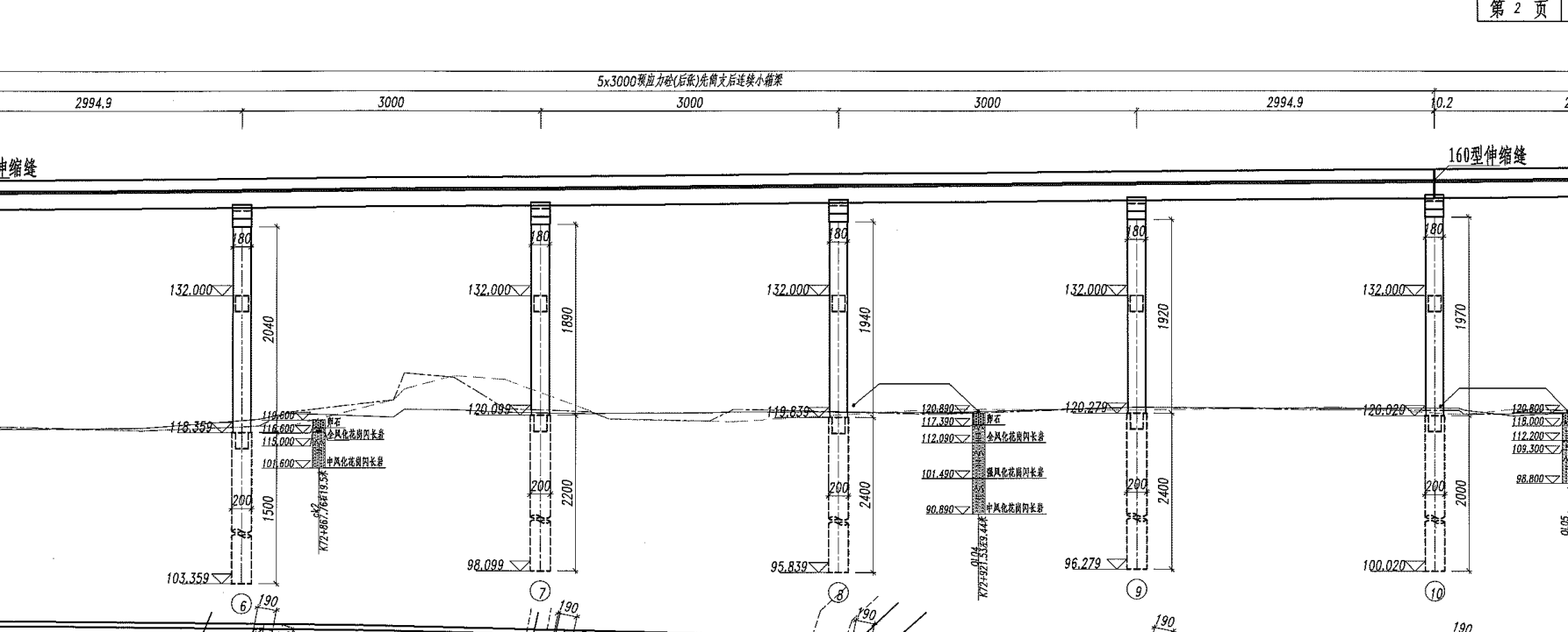C: (753, 188, 870, 613), (1350, 185, 1466, 611), (155, 195, 271, 620), (454, 192, 571, 607), (1052, 187, 1165, 611)
